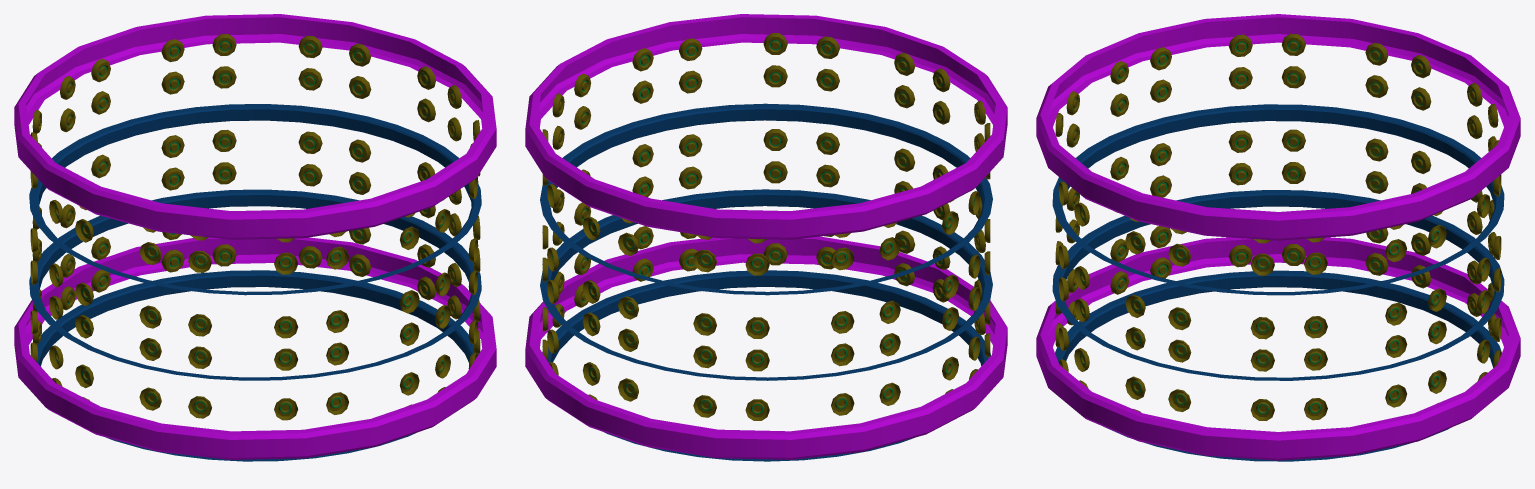
File: MC_Reacteur_Deco.fbx
The picture shows the model from 3 angles, left to right: view 1: azimuth 30°, elevation 25°; view 2: azimuth 150°, elevation 25°; view 3: azimuth 270°, elevation 25°; orthographic projection.
Visible parts, largest first — view 1: MC_Reacteur_Deco; view 2: MC_Reacteur_Deco; view 3: MC_Reacteur_Deco.
Boxes of the visible parts, x1=… form: MC_Reacteur_Deco: x1=14, y1=14, x2=496, y2=461; MC_Reacteur_Deco: x1=525, y1=14, x2=1007, y2=461; MC_Reacteur_Deco: x1=1036, y1=14, x2=1520, y2=461.
Size of the model in its own units: 481 by 290 by 481.
